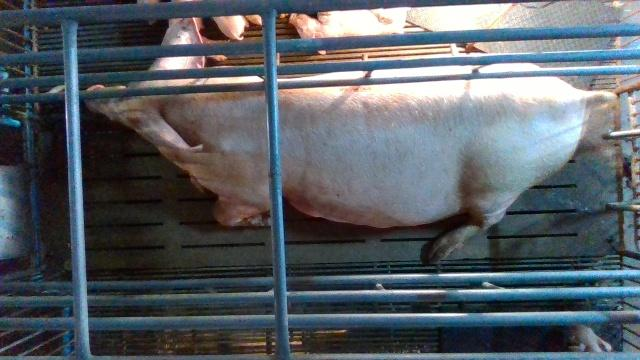piglet: (290, 7, 409, 55)
sow-sit: (86, 14, 620, 263)
